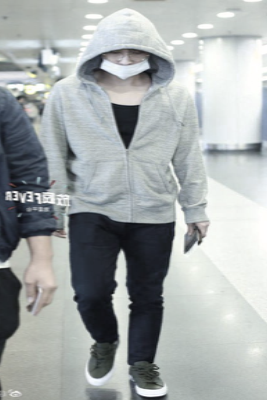mask_weared_incorrect: (99, 47, 150, 80)
